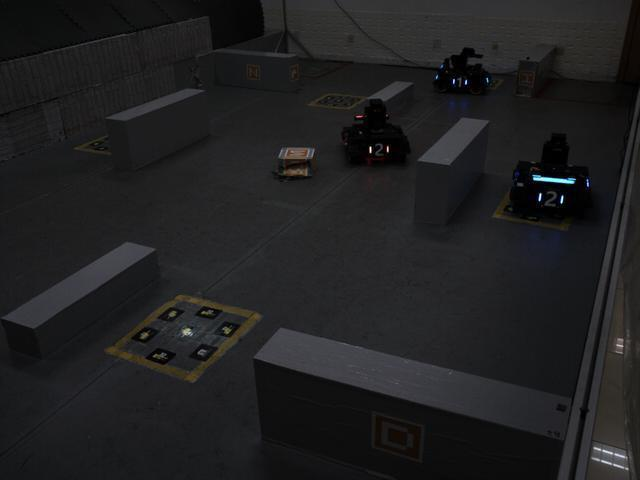armor: (534, 189, 567, 211), (364, 139, 393, 162), (450, 74, 471, 91)
